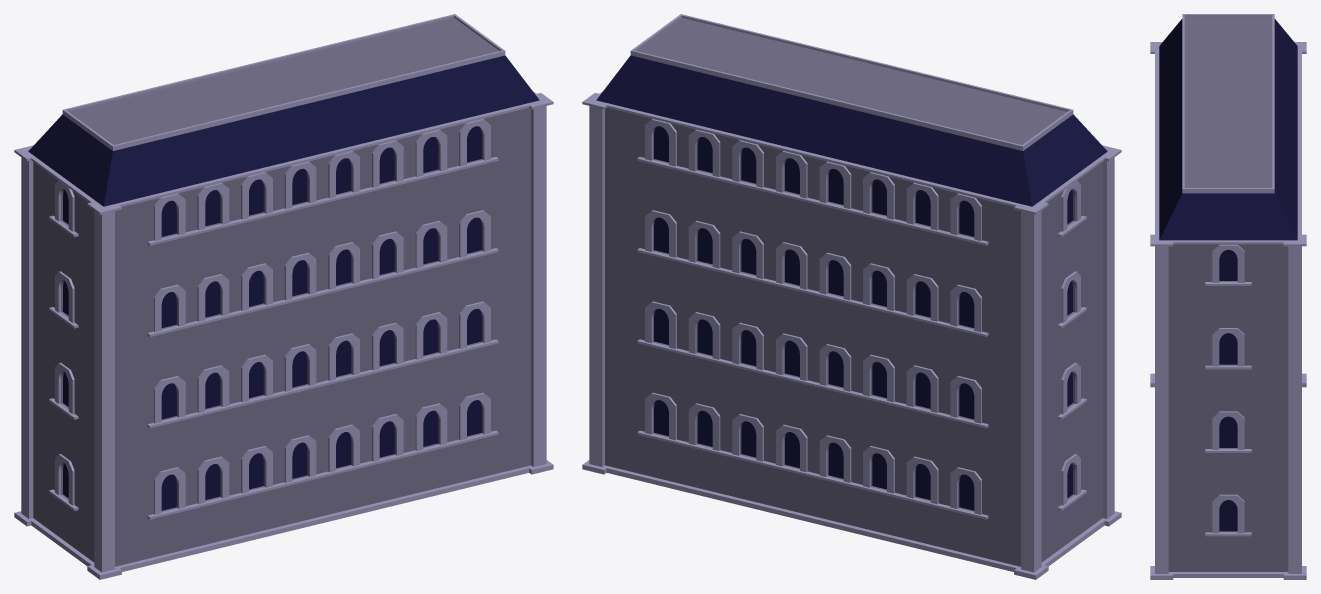
The model's file is house v6.001.fbx.
3 views of the same model, side by side, from view 1: azimuth 30°, elevation 25°; view 2: azimuth 150°, elevation 25°; view 3: azimuth 270°, elevation 25° (orthographic). The views are drawn at different scales.
Parts seen in each view (by area): view 1: Building; view 2: Building; view 3: Building.
Part boxes in pixels (bbox=[...]): Building: bbox=[14, 14, 553, 579]; Building: bbox=[582, 14, 1121, 579]; Building: bbox=[1150, 14, 1306, 579].
Size of the model in its own units: 340 by 1040 by 905.
